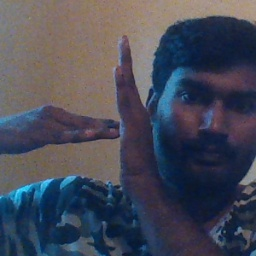Z: (29, 30, 152, 192)
